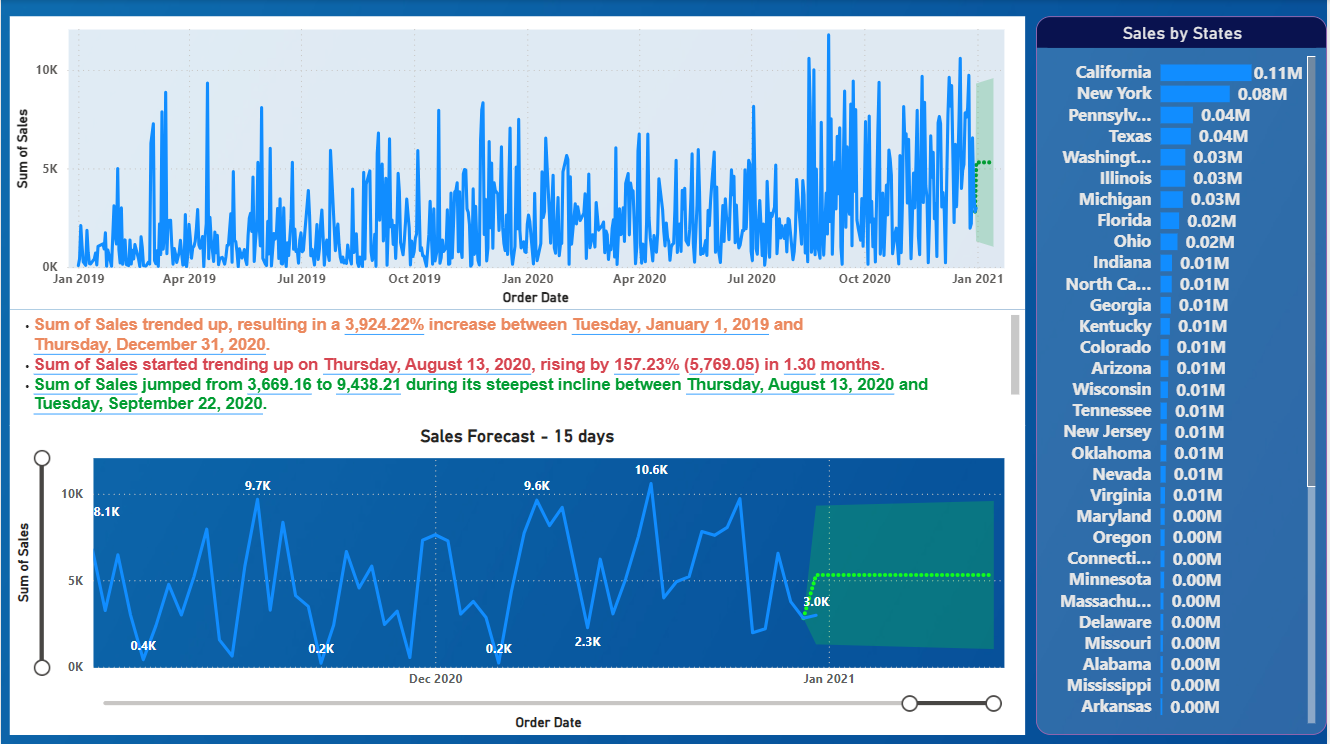

The dashboard page shown, as its layout file describes it:
{"tool":"powerbi","page":{"name":"Sales Forecast -15 days ","canvas":[1280,720],"ordinal":1},"visuals":[{"type":"lineChart","title":"Sales Forecast - 15 days","fields":{"Y":["Sum(SuperStore_Sales_Dataset.Sales)"],"Category":["SuperStore_Sales_Dataset.Order Date"]},"box":[8.4,410.2,979.6,299.2],"z":0},{"type":"textbox","box":[8.4,299.2,979.6,111],"z":1000},{"type":"lineChart","fields":{"Y":["Sum(SuperStore_Sales_Dataset.Sales)"],"Category":["SuperStore_Sales_Dataset.Order Date"]},"box":[8.4,15.7,979.6,283.5],"z":2000},{"type":"clusteredBarChart","title":"Sales by States","fields":{"Y":["Sum(SuperStore_Sales_Dataset.Sales)"],"Category":["SuperStore_Sales_Dataset.State"]},"box":[998.9,15.7,281.1,693.7],"z":3000}]}

Visuals, with their boxes in screenshot pixels (x1, y1, x2, y2), scaled from the page's 1280x720 canvas onto the 1330x744 screenshot:
"Sales Forecast - 15 days" lineChart: l=9, t=424, r=1027, b=733
textbox: l=9, t=309, r=1027, b=424
lineChart - Sum(SuperStore_Sales_Dataset.Sales) x SuperStore_Sales_Dataset.Order Date: l=9, t=16, r=1027, b=309
"Sales by States" clusteredBarChart: l=1038, t=16, r=1329, b=733
